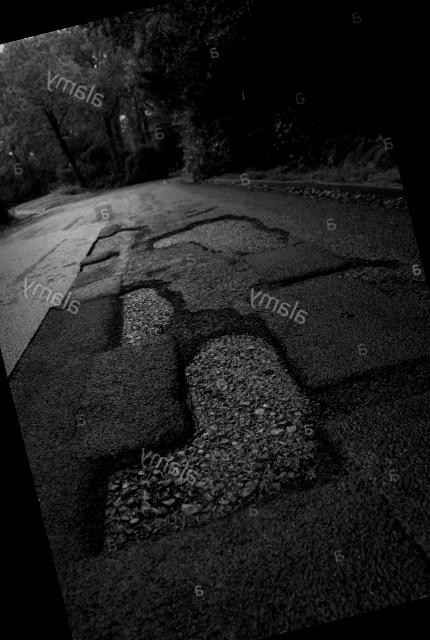Pothole: (50, 302, 329, 561), (270, 242, 430, 338), (146, 195, 290, 284), (104, 270, 186, 340), (72, 219, 148, 280)
